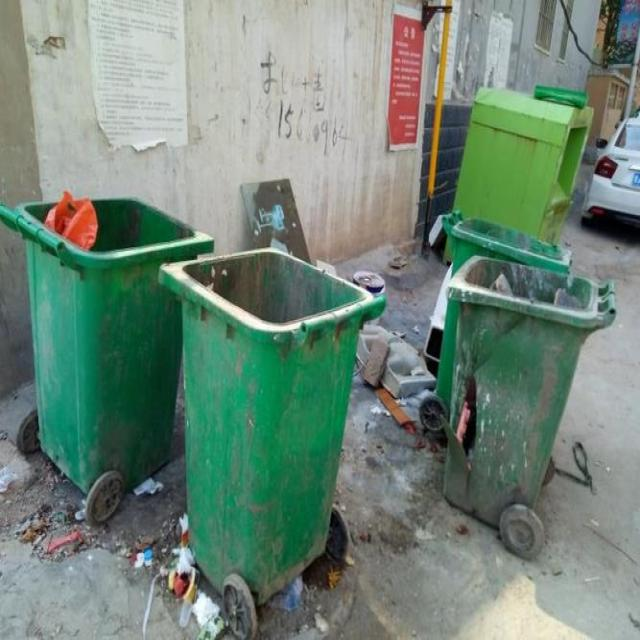garbage: (134, 477, 224, 635)
garbage_bin: (153, 246, 384, 604), (440, 252, 616, 529)
overflow: (0, 189, 214, 486)
